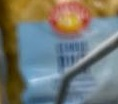1d: (55, 40, 92, 74)
